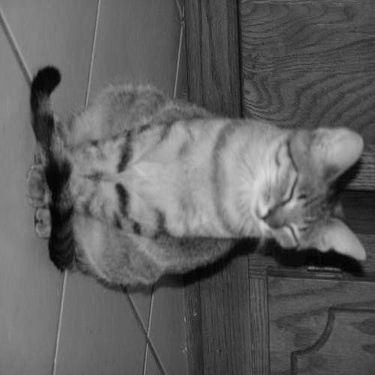cat: (28, 64, 369, 287)
